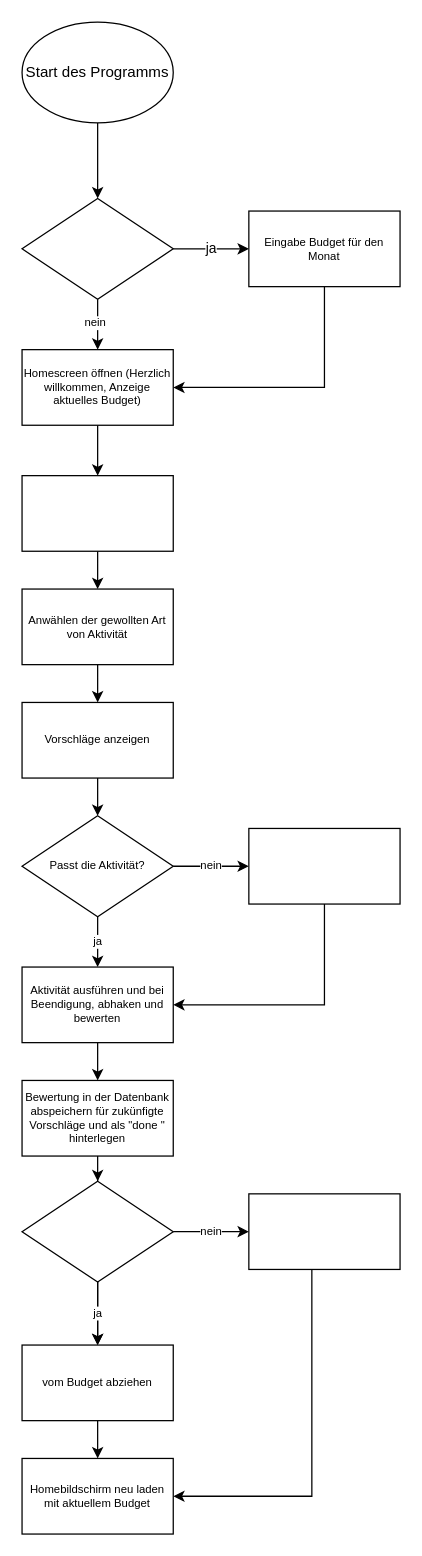
Image size: 422x1556. Some labels were removed from this diagram. Here are the shapes that lost their labels. From the top down, the box of each, then its label:
(21, 197, 173, 299): Erste Benutzung oder anfangs Monat?
(21, 474, 173, 551): "Button" neue Aktivität finden
(248, 827, 400, 904): mit "neue Suche starten" andere Möglichkeiten vorschlagen lassen
(21, 1180, 173, 1282): Hat die Aktivität gekostet?
(248, 1193, 400, 1269): keine Anpassung im Budget nötig
